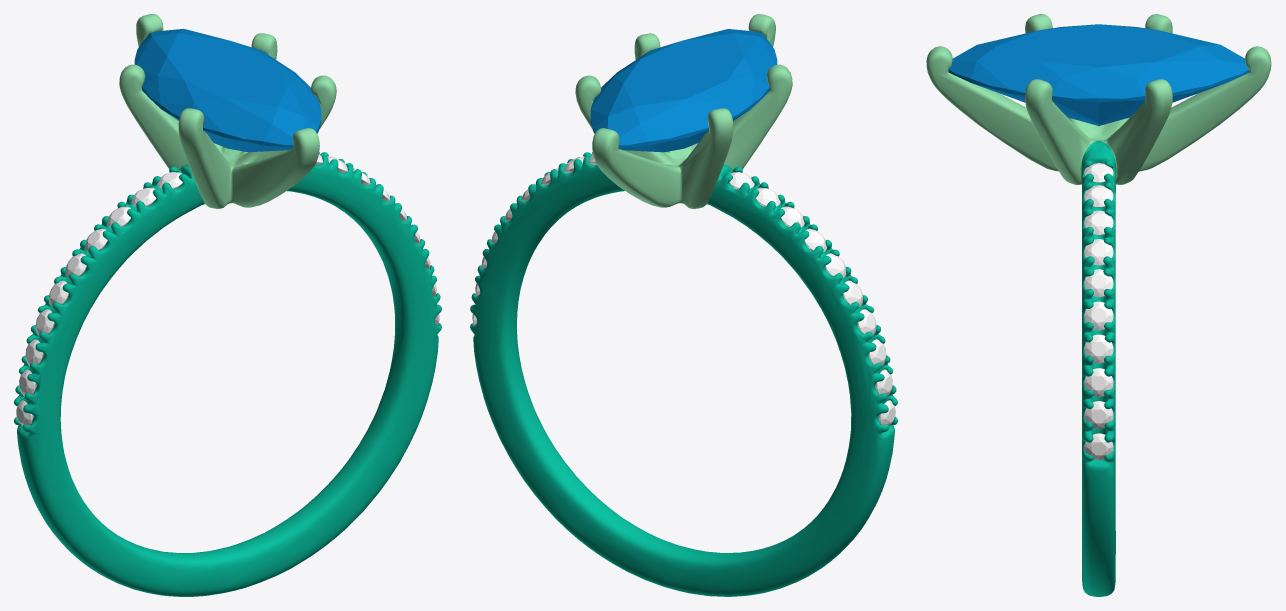
The model's file is BE1D1823_MQ_200ct_RENDER.glb.
3 views of the same model, side by side, from view 1: azimuth 30°, elevation 25°; view 2: azimuth 150°, elevation 25°; view 3: azimuth 270°, elevation 25° (orthographic).
Parts seen in each view (by area): view 1: Metal 01, CS_Diamond_Marquise, Metal 02; view 2: Metal 01, CS_Diamond_Marquise, Metal 02; view 3: Metal 02, CS_Diamond_Marquise, Metal 01, Diamond_Round_Gem_SH.003, Diamond_Round_Gem_SH.004, Diamond_Round_Gem_SH.002, Diamond_Round_Gem_SH.001, Diamond_Round_Gem_SH.005, Diamond_Round_Gem_SH, Diamond_Round_Gem_SH.006, Diamond_Round_Gem_SH.007.
Part boxes in pixels (<box>): Metal 01: <box>14,151,441,596</box>; CS_Diamond_Marquise: <box>134,28,321,152</box>; Metal 02: <box>119,14,336,208</box>; Metal 01: <box>470,151,897,596</box>; CS_Diamond_Marquise: <box>590,29,777,152</box>; Metal 02: <box>575,14,792,208</box>; Metal 02: <box>926,14,1271,185</box>; CS_Diamond_Marquise: <box>948,24,1248,125</box>; Metal 01: <box>1081,126,1116,596</box>; Diamond_Round_Gem_SH.003: <box>1084,334,1113,363</box>; Diamond_Round_Gem_SH.004: <box>1084,301,1113,330</box>; Diamond_Round_Gem_SH.002: <box>1084,368,1113,396</box>; Diamond_Round_Gem_SH.001: <box>1084,401,1113,429</box>; Diamond_Round_Gem_SH.005: <box>1084,269,1113,297</box>; Diamond_Round_Gem_SH: <box>1084,433,1113,460</box>; Diamond_Round_Gem_SH.006: <box>1084,239,1113,265</box>; Diamond_Round_Gem_SH.007: <box>1084,210,1113,235</box>.
Bounding box in the file's own units: 20.31 × 24.09 × 14.26.
